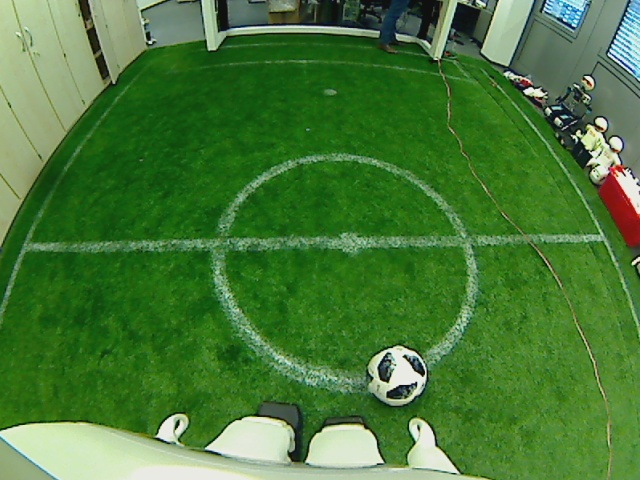ball: (364, 342, 427, 408)
